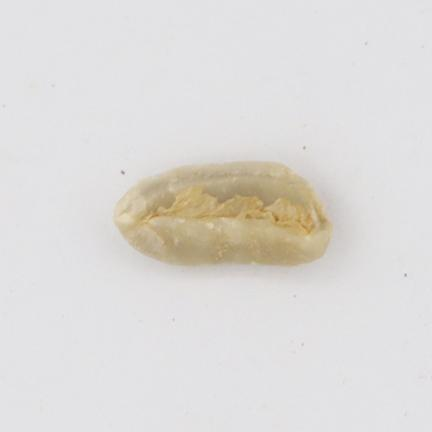shell: (114, 162, 332, 265)
